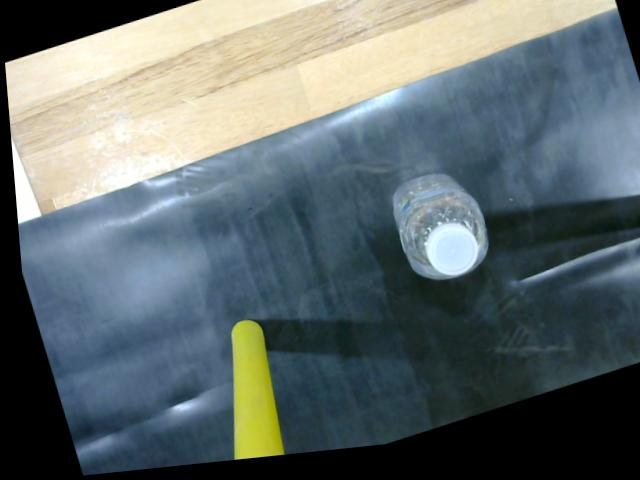bottle: (377, 175, 498, 298)
